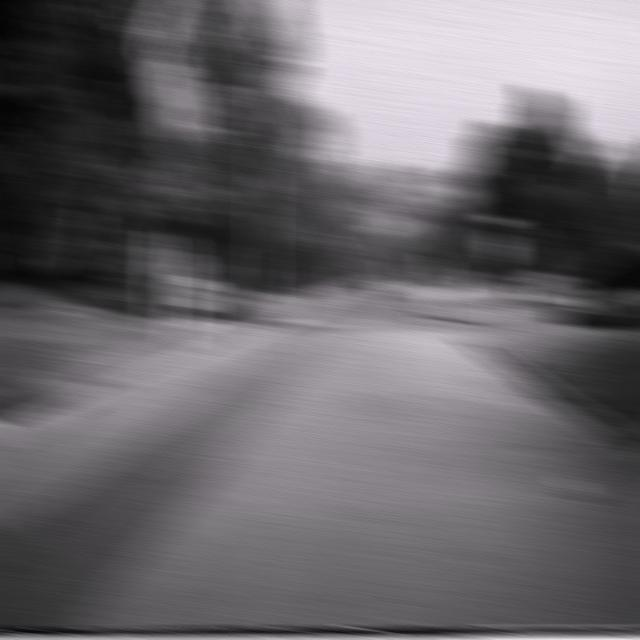stop: (484, 230, 516, 264)
